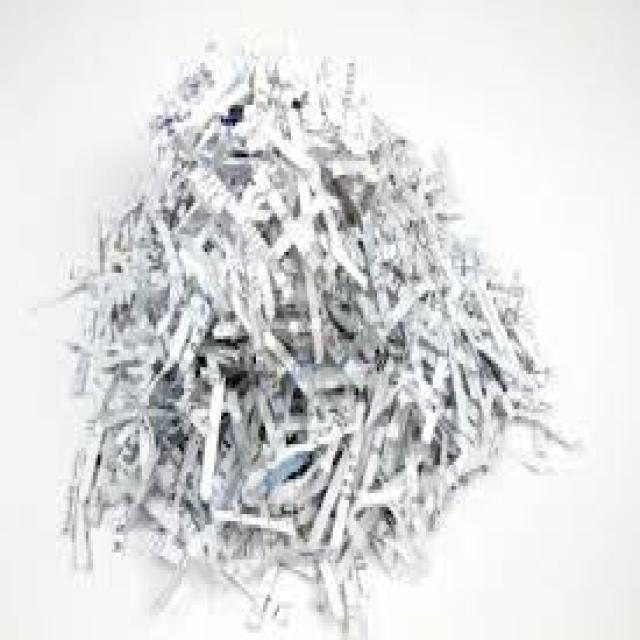paper: (30, 32, 577, 623)
